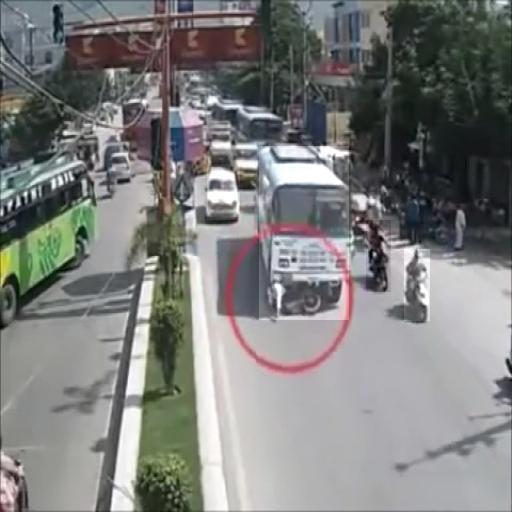小汽车撞自行车: (259, 146, 349, 320)
自行车: (404, 249, 430, 321), (207, 164, 240, 220), (366, 220, 391, 292)
